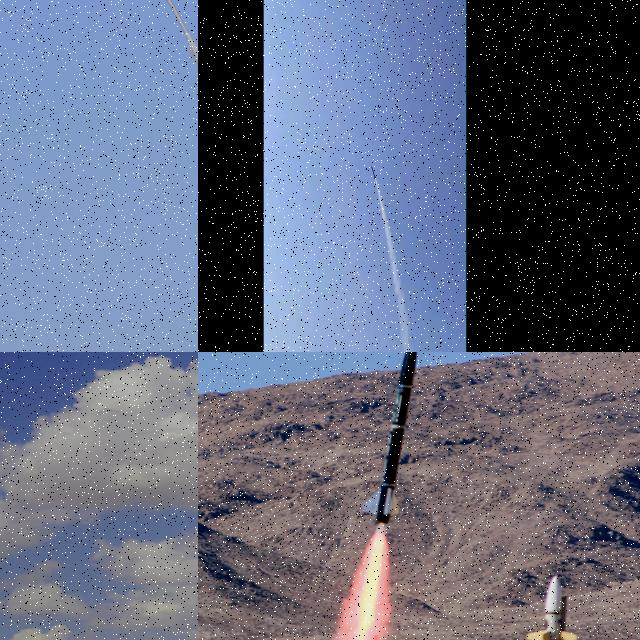Rocket: (363, 352, 420, 526), (525, 574, 578, 640), (165, 0, 198, 70), (371, 165, 376, 180)
